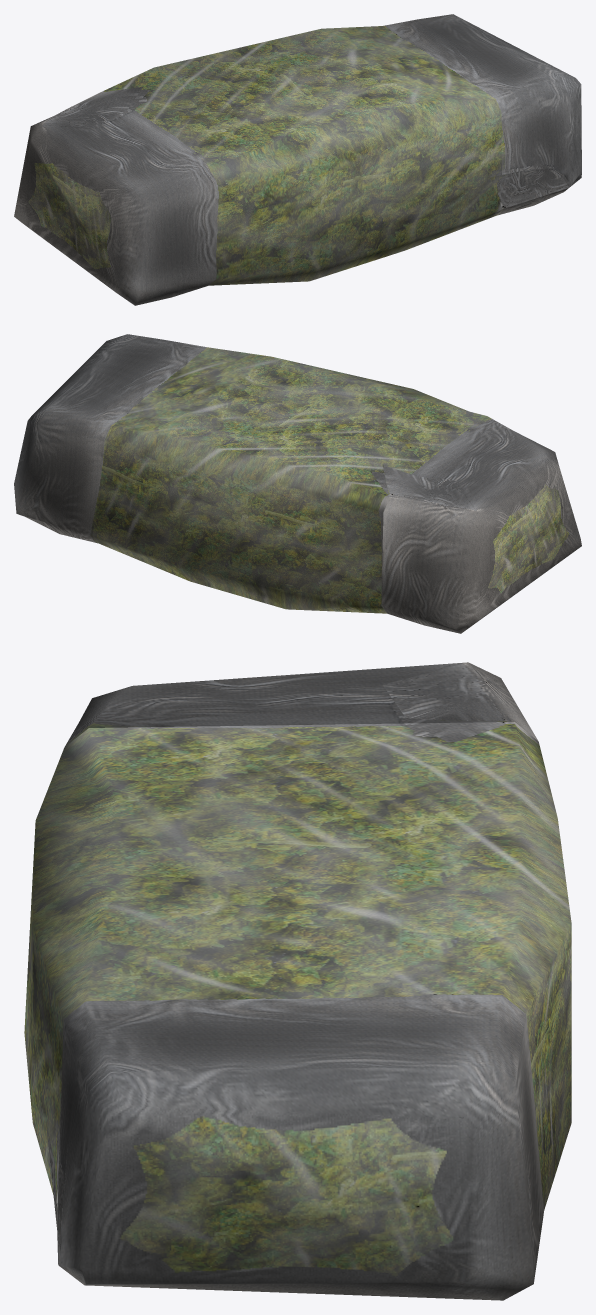
Rendered from weed_brick.fbx.
3 views of the same model, one above another, from view 1: azimuth 30°, elevation 25°; view 2: azimuth 150°, elevation 25°; view 3: azimuth 270°, elevation 25° (orthographic). The views are drawn at different scales.
Visible parts, largest first — view 1: Cube.001; view 2: Cube.001; view 3: Cube.001.
Boxes of the visible parts, box(x1,y1,x2,y2) form: Cube.001: box(14, 14, 581, 305); Cube.001: box(14, 334, 581, 633); Cube.001: box(24, 662, 571, 1300).
Size of the model in its own units: 13.99 by 4 by 7.
Materials: 1 (1 with a texture image).
